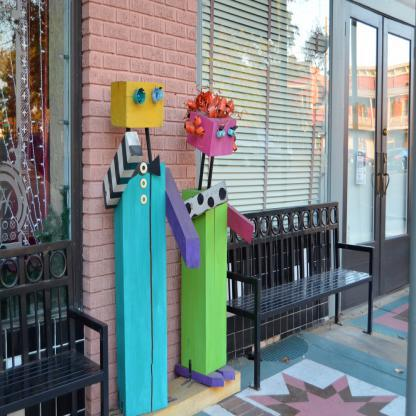door: (339, 0, 381, 314), (380, 11, 416, 302)
